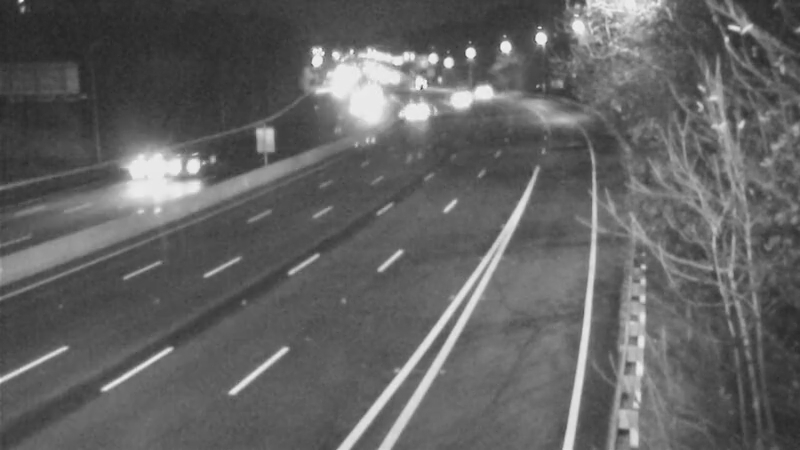vehicle: (135, 128, 215, 208), (107, 134, 187, 214), (392, 56, 442, 106), (459, 64, 509, 114), (430, 71, 480, 121), (379, 87, 429, 137)
